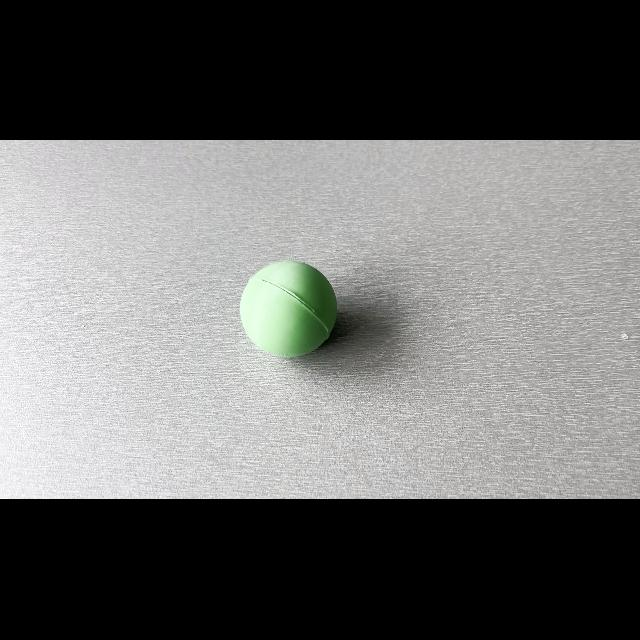objects: (235, 255, 345, 362)
